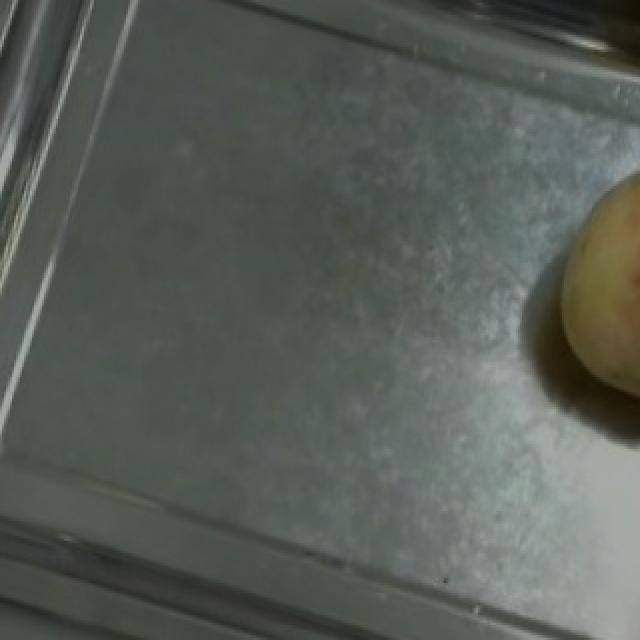Fruit: (520, 146, 640, 436)
